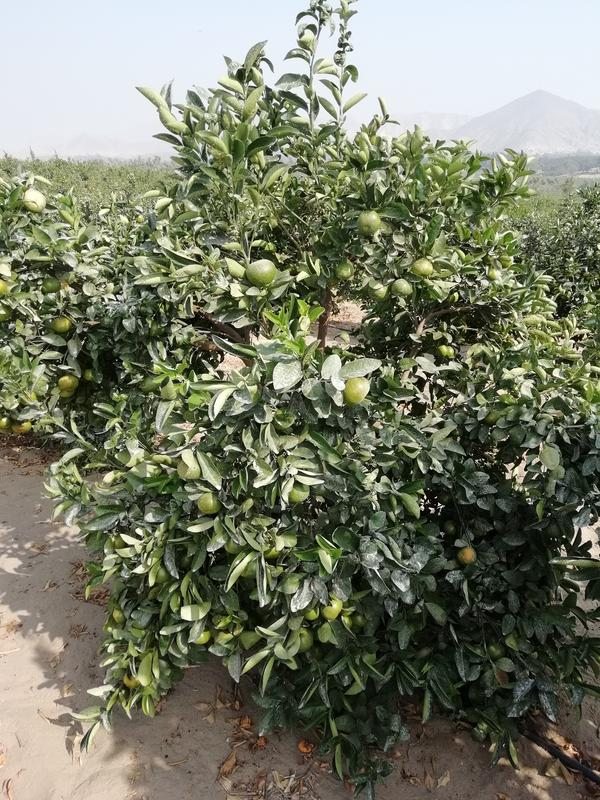mandarina verde: (245, 258, 276, 285), (345, 377, 369, 405), (24, 188, 47, 211), (320, 597, 344, 619), (357, 211, 381, 233), (198, 494, 220, 514), (288, 483, 309, 503), (390, 278, 412, 296), (412, 258, 434, 275), (41, 277, 61, 294), (459, 547, 477, 565), (335, 262, 354, 279), (58, 376, 79, 391), (51, 317, 71, 332), (12, 420, 31, 433)
